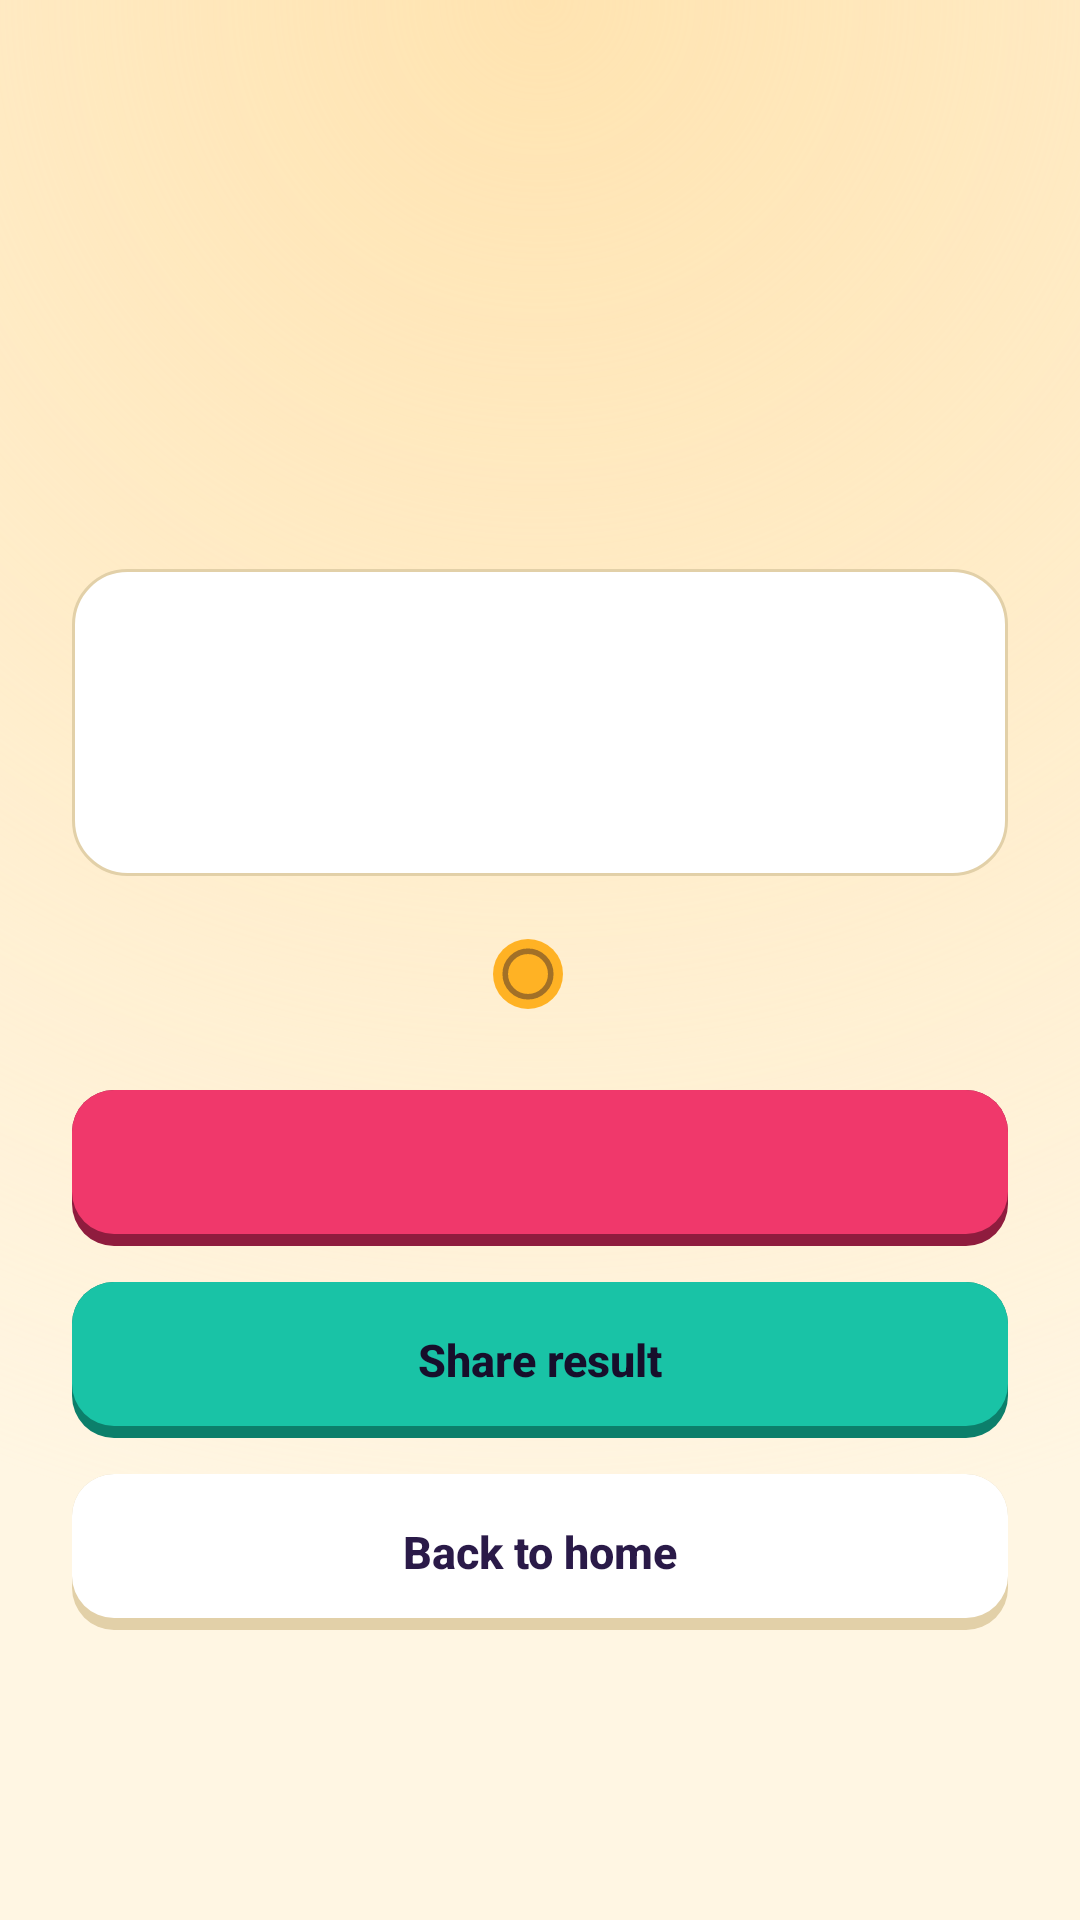

Icon bounding boxes for this 1080×1920 phone screenshot, format (x1, y1, x2, y2):
coin: (493, 939, 563, 1009)
